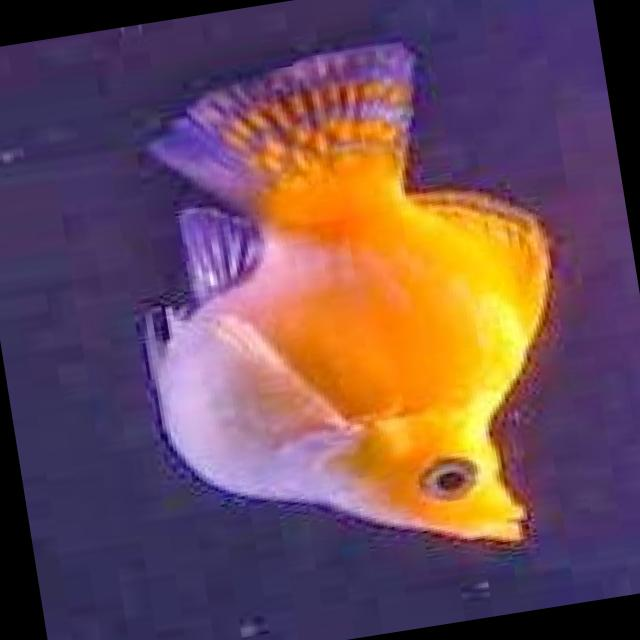PlatyFish: (58, 1, 620, 612)
